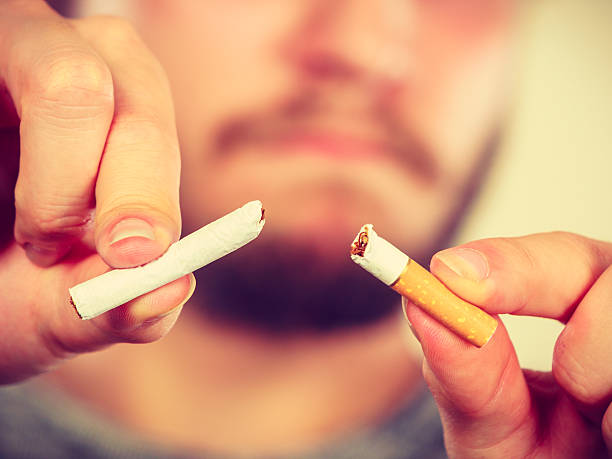cigarette: (66, 200, 267, 322), (346, 221, 500, 351)
